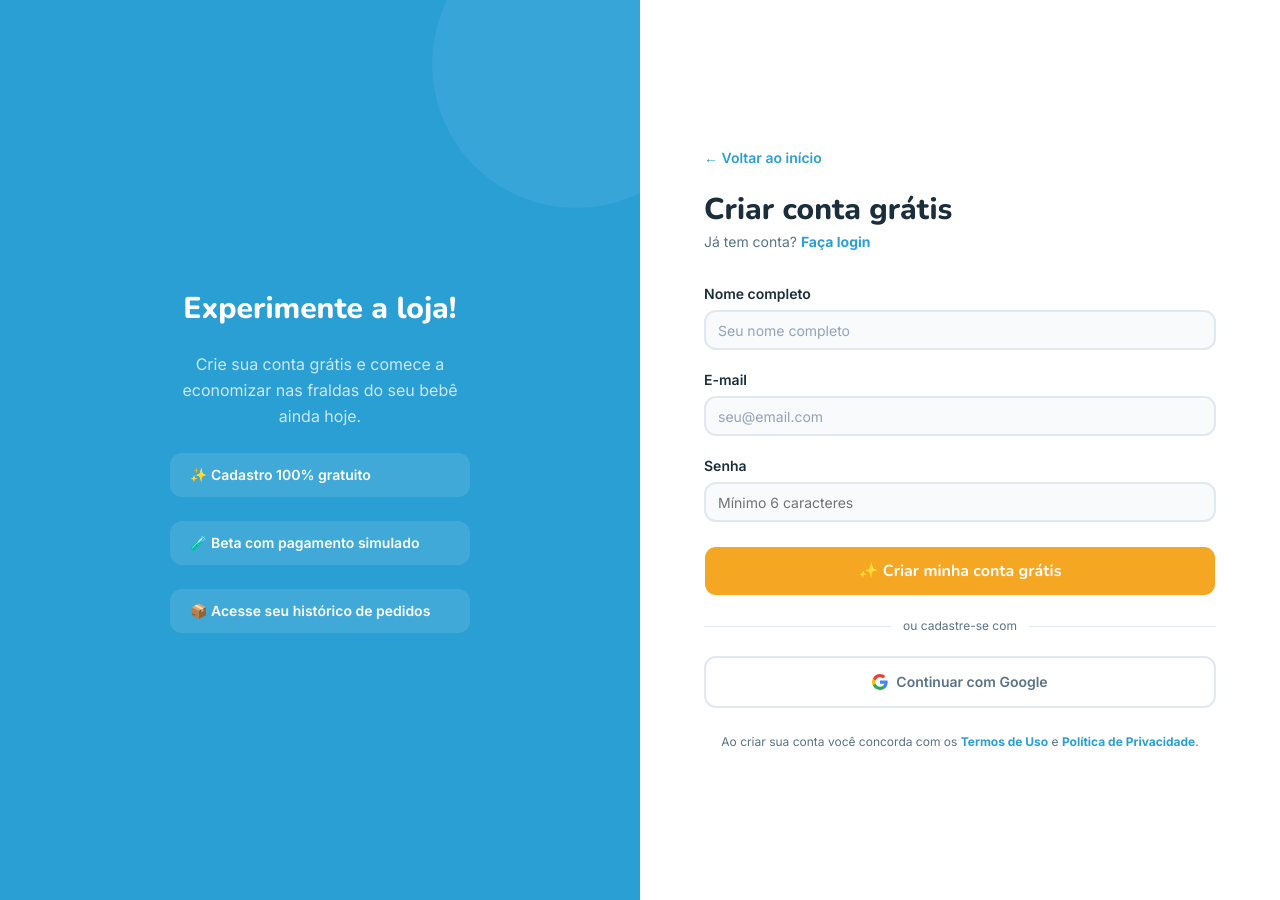
CadastroPage › disables buttons during loading to prevent duplicate clicks
Click the button "Continuar com Google".
click(960, 682)  # box [704,656,1216,708]
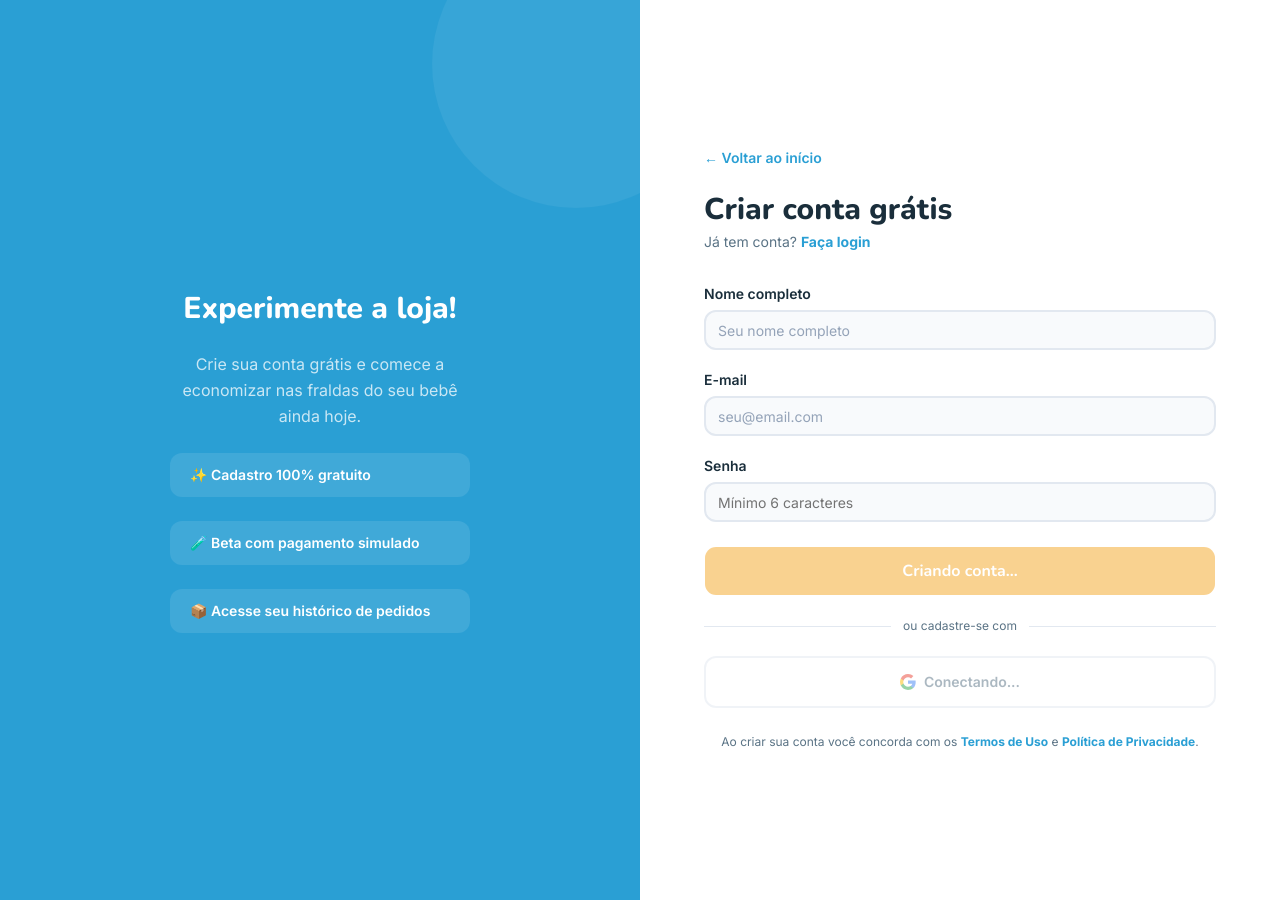
Now the button "Conectando..." is disabled
Now the button named "Criar minha conta grátis" is disabled, box [704,546,1216,596]
// Second click should not call signInGoogle again
Click the button "Conectando...".
click(960, 682)  # box [704,656,1216,708]
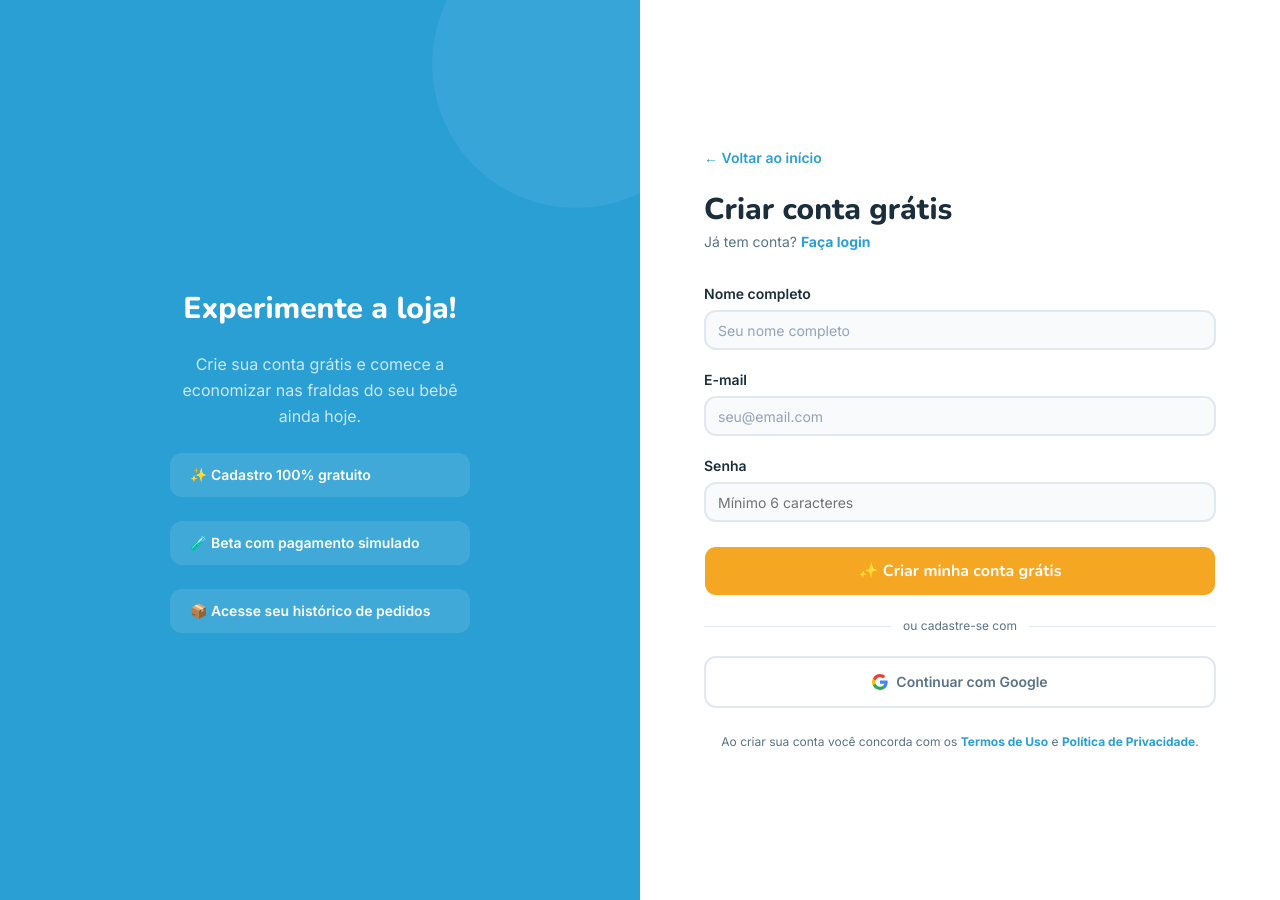
Now the button "Continuar com Google" is enabled, box [704,656,1216,708]
